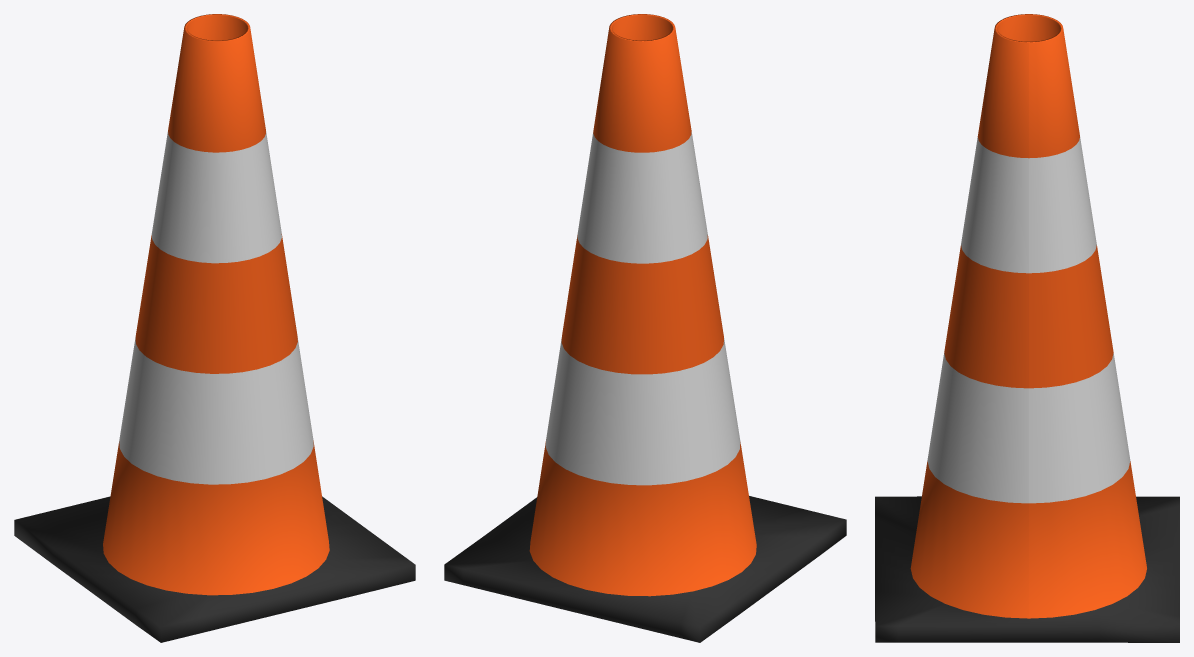
The picture shows the model from 3 angles, left to right: view 1: azimuth 30°, elevation 25°; view 2: azimuth 150°, elevation 25°; view 3: azimuth 270°, elevation 25°; orthographic projection. The views are drawn at different scales.
Visible parts, largest first — view 1: Cone; view 2: Cone; view 3: Cone.
Boxes of the visible parts, x1,y1,x2,y2 form: Cone: (14,14,415,642); Cone: (444,14,846,642); Cone: (875,14,1179,642).
Size of the model in its own units: 0.3971 by 0.7851 by 0.3939.
